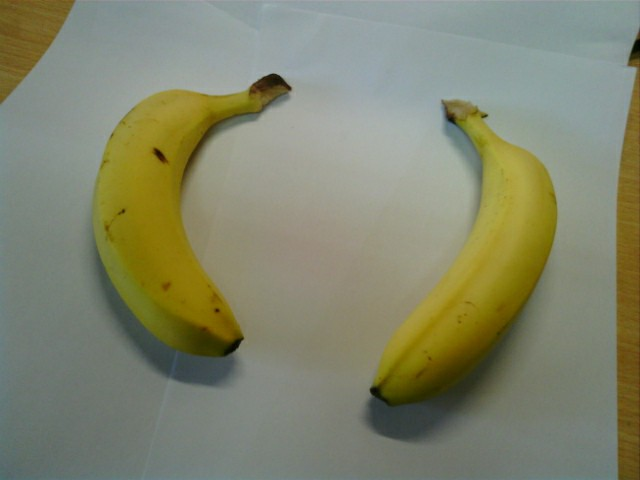fresh_banana: (373, 107, 558, 409)
normal_banana: (96, 80, 255, 360)
